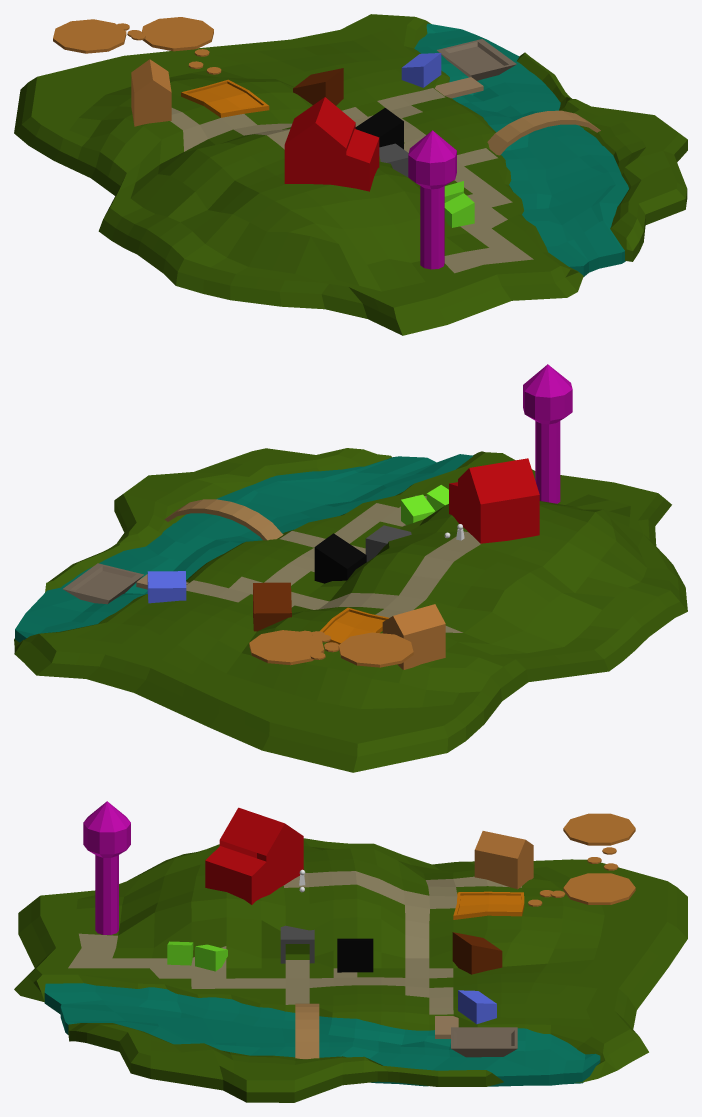
The model's file is Blockout.glb.
The picture shows the model from 3 angles, top to bottom: view 1: azimuth 30°, elevation 25°; view 2: azimuth 150°, elevation 25°; view 3: azimuth 270°, elevation 25°; orthographic projection. The views are drawn at different scales.
Visible parts, largest first — view 1: Groundplane, Water, postoffice, Alchemist, Farm, Fields.008, Fields.004, Field 1, Ship, Bridge, Mason, Blacksmith (+4 smaller); view 2: Groundplane, Water, postoffice, Alchemist, Farm, Fields.008, Fields.004, Ship, Blacksmith, Bridge, Mason, Field 1 (+3 smaller); view 3: Groundplane, Water, postoffice, Alchemist, Farm, Ship, Fields.008, Fields.004, Field 1, Mason, Bridge, Market stalls (+3 smaller).
Boxes of the visible parts, x1,y1,x2,y2 form: Groundplane: (14, 14, 687, 335); Water: (414, 23, 628, 277); postoffice: (284, 97, 379, 191); Alchemist: (408, 130, 456, 269); Farm: (131, 59, 171, 126); Fields.008: (53, 19, 126, 53); Fields.004: (141, 17, 213, 51); Field 1: (181, 79, 269, 117); Ship: (437, 39, 516, 80); Bridge: (487, 110, 600, 155); Mason: (293, 68, 343, 105); Blacksmith: (355, 108, 403, 149); Groundplane: (14, 448, 687, 772); Water: (15, 454, 473, 642); postoffice: (449, 458, 539, 543); Alchemist: (523, 364, 572, 503); Farm: (382, 604, 445, 669); Fields.008: (338, 632, 413, 667); Fields.004: (249, 630, 324, 665); Ship: (63, 563, 143, 604); Blacksmith: (314, 533, 366, 583); Bridge: (164, 499, 283, 540); Mason: (253, 582, 291, 631); Field 1: (320, 607, 389, 644); Groundplane: (14, 838, 687, 1102); Water: (44, 983, 600, 1086); postoffice: (205, 807, 303, 904); Alchemist: (83, 801, 130, 934); Farm: (474, 831, 533, 889); Ship: (451, 1027, 517, 1057); Fields.008: (563, 813, 635, 845); Fields.004: (563, 873, 635, 904); Field 1: (453, 891, 524, 919); Mason: (452, 932, 502, 974); Bridge: (295, 1003, 319, 1059); Market stalls: (167, 941, 227, 971).
Size of the model in its own units: 24.37 by 7.32 by 28.14.
